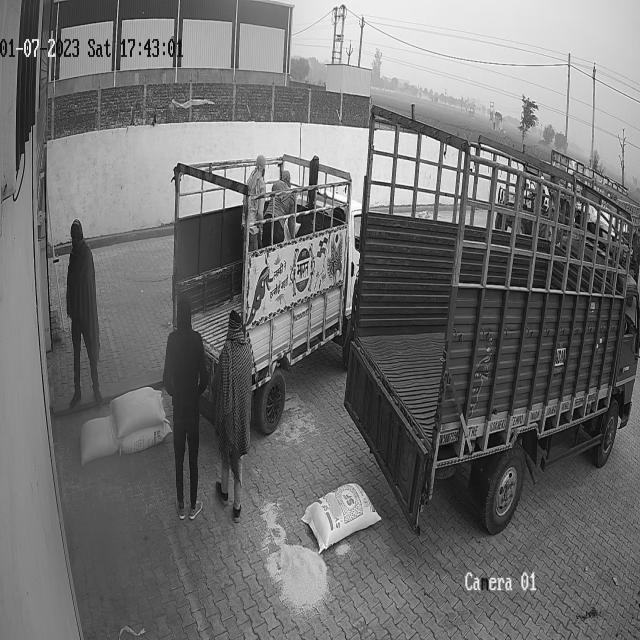sack: (302, 482, 380, 553), (109, 387, 165, 437), (79, 416, 117, 464), (121, 422, 173, 454)
